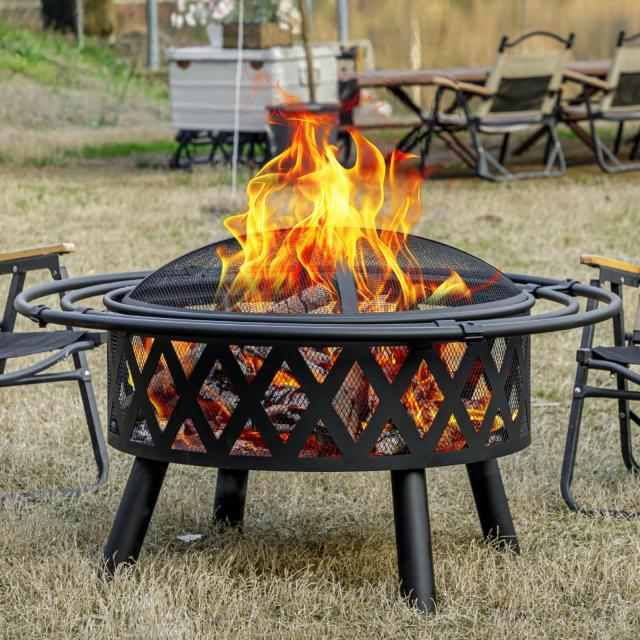fire: (217, 78, 504, 303)
